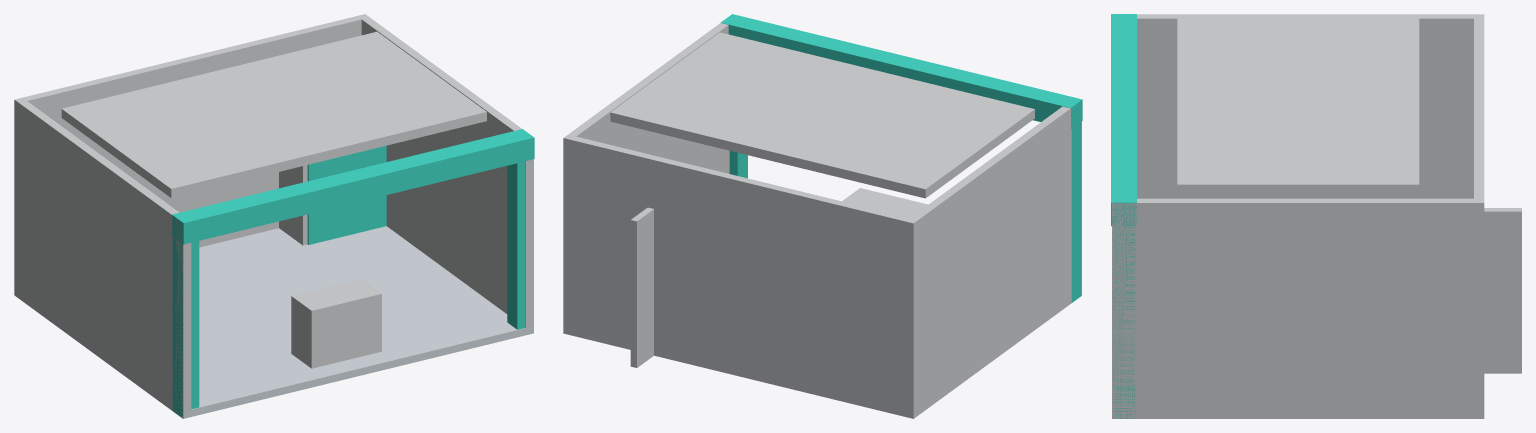
3 renders of one model, left to right at view 1: azimuth 30°, elevation 25°; view 2: azimuth 150°, elevation 25°; view 3: azimuth 270°, elevation 25°, orthographic. The views are drawn at different scales.
Parts seen in each view (by area): view 1: Exhibition Booth Concept; view 2: Exhibition Booth Concept; view 3: Exhibition Booth Concept.
Part boxes in pixels (left/top/right/bottom): Exhibition Booth Concept: left=14, top=14, right=534, bottom=418; Exhibition Booth Concept: left=563, top=14, right=1082, bottom=418; Exhibition Booth Concept: left=1111, top=14, right=1521, bottom=418.
Bounding box in the file's own units: 6 × 3.34 × 5.52.
